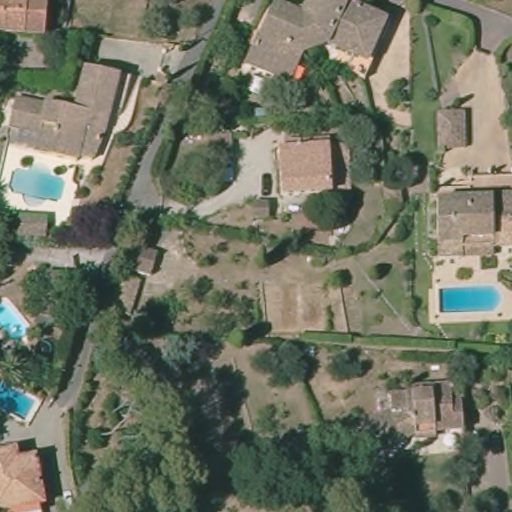pool: (1, 162, 74, 210), (434, 280, 510, 318), (1, 378, 44, 425), (1, 295, 35, 343)
